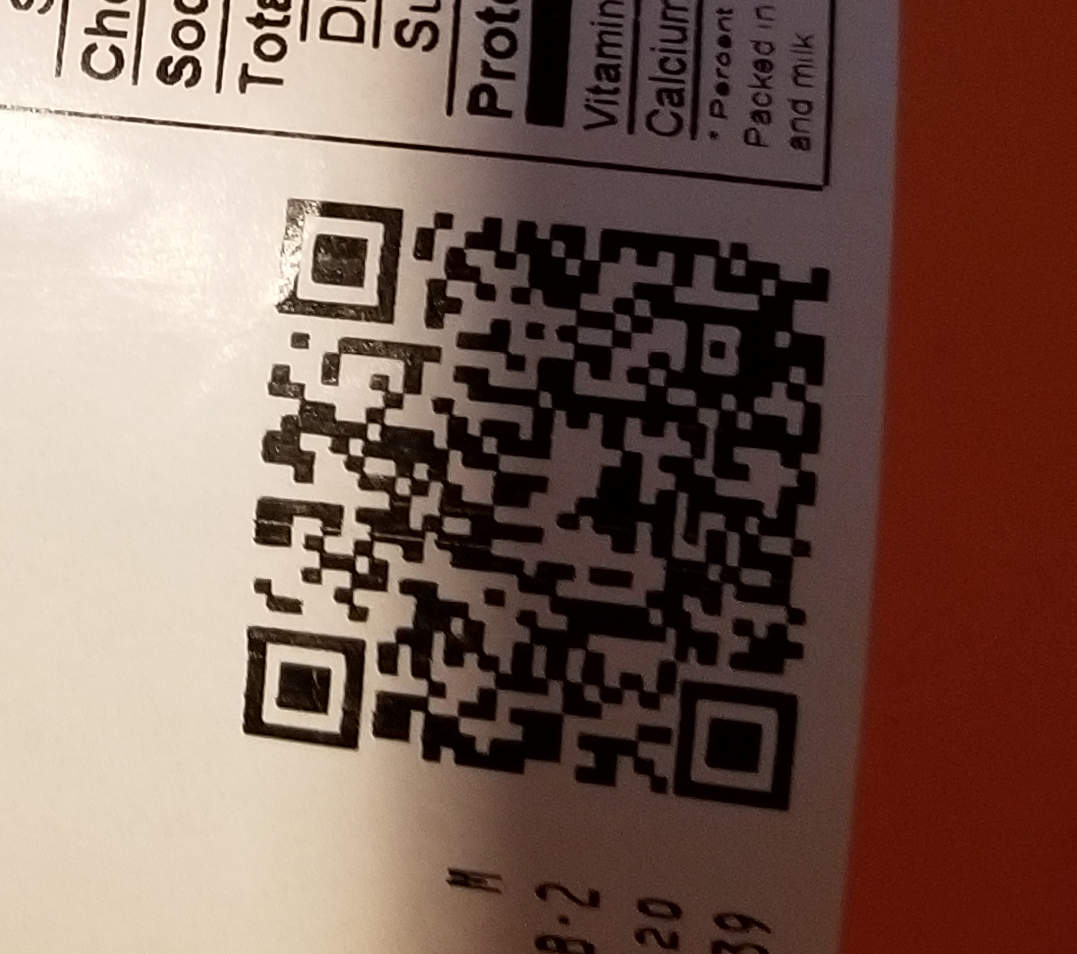QR_CODE: (219, 184, 856, 826)
